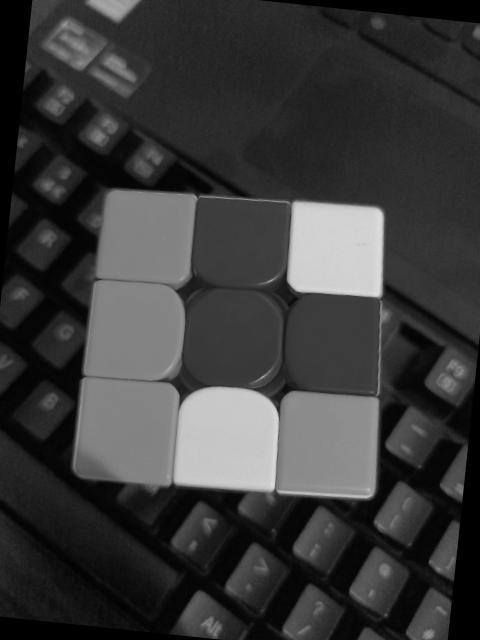rubik: (68, 178, 406, 510)
